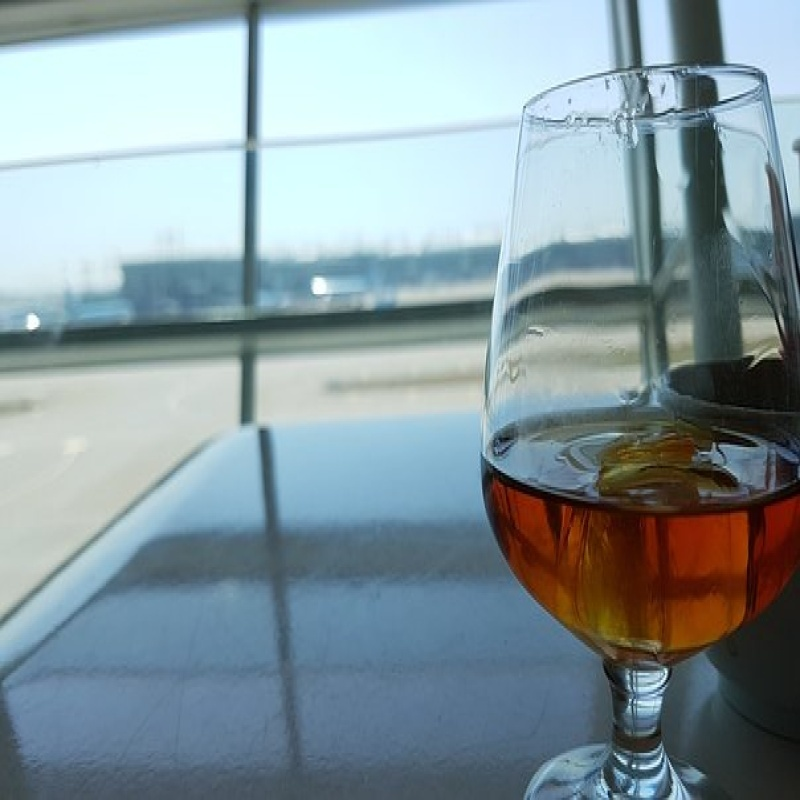whiskey: (486, 64, 800, 721)
